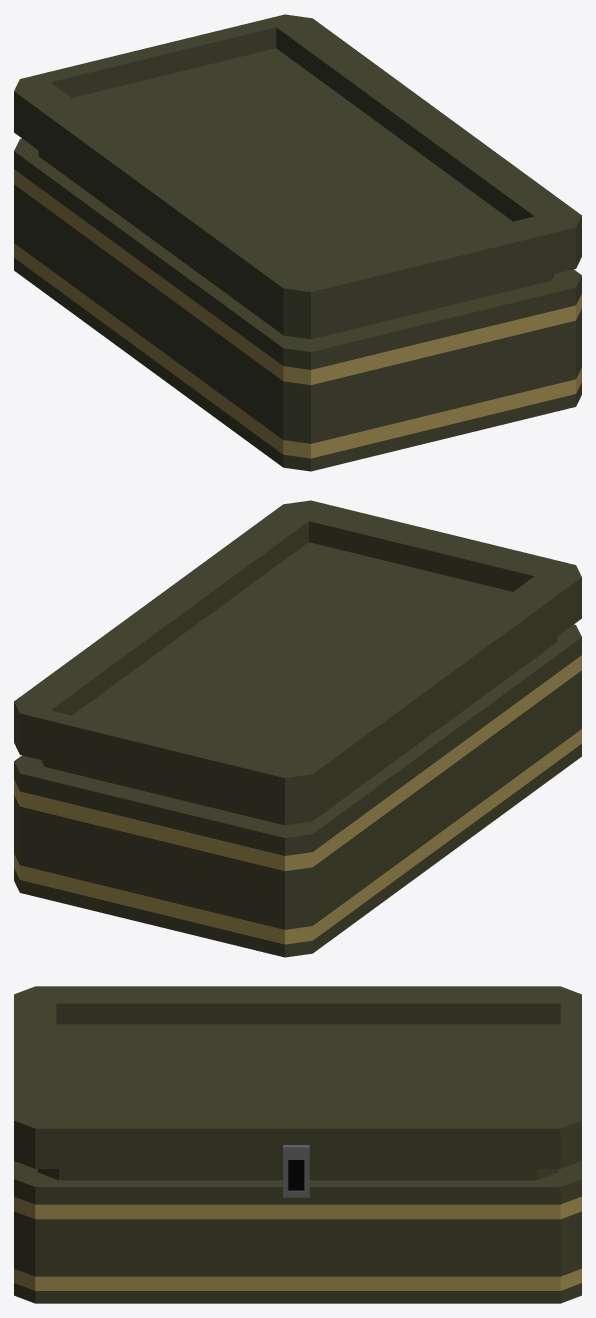
Rendered from Ammobox.fbx.
The picture shows the model from 3 angles, top to bottom: view 1: azimuth 30°, elevation 25°; view 2: azimuth 150°, elevation 25°; view 3: azimuth 270°, elevation 25°; orthographic projection. The views are drawn at different scales.
Visible parts, largest first — view 1: Cube; view 2: Cube; view 3: Cube, Cube.001.
Part boxes in pixels (<box>): Cube: <box>14,14,581,471</box>; Cube: <box>14,500,581,957</box>; Cube: <box>14,986,581,1303</box>; Cube.001: <box>283,1145,309,1197</box>.
Size of the model in its own units: 203 by 115 by 338.
